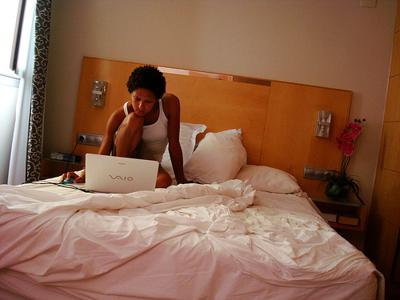person: (62, 64, 194, 192)
